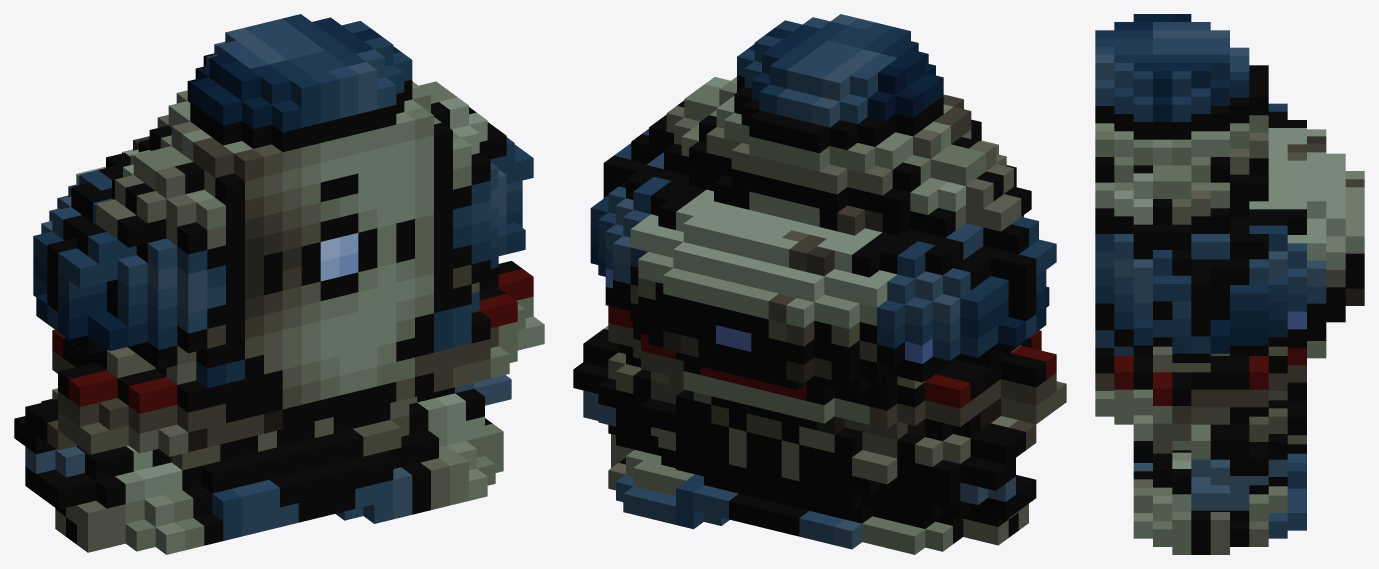
The model's file is Icon_745_01.obj.
3 views of the same model, side by side, from view 1: azimuth 30°, elevation 25°; view 2: azimuth 150°, elevation 25°; view 3: azimuth 270°, elevation 25° (orthographic). The views are drawn at different scales.
Size of the model in its own units: 2.4 by 2.4 by 1.4.
1 material, 1 textured.
